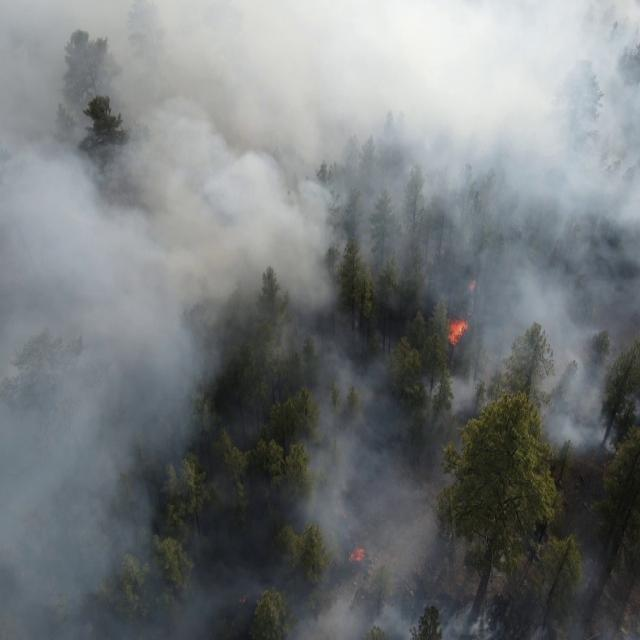fire: (445, 314, 471, 345), (348, 544, 368, 564), (466, 274, 479, 298), (234, 593, 250, 607)
smoke: (0, 0, 452, 640), (533, 0, 640, 454), (453, 0, 533, 382), (452, 552, 640, 640), (452, 383, 487, 425)
